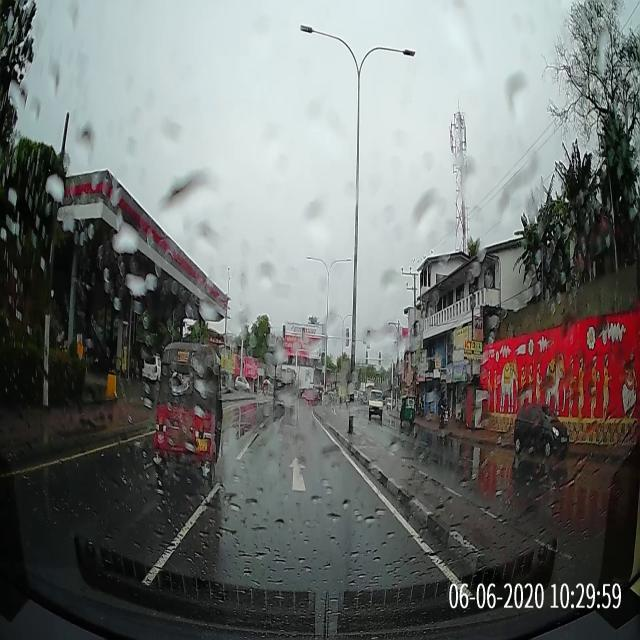forward: (185, 447, 399, 510)
